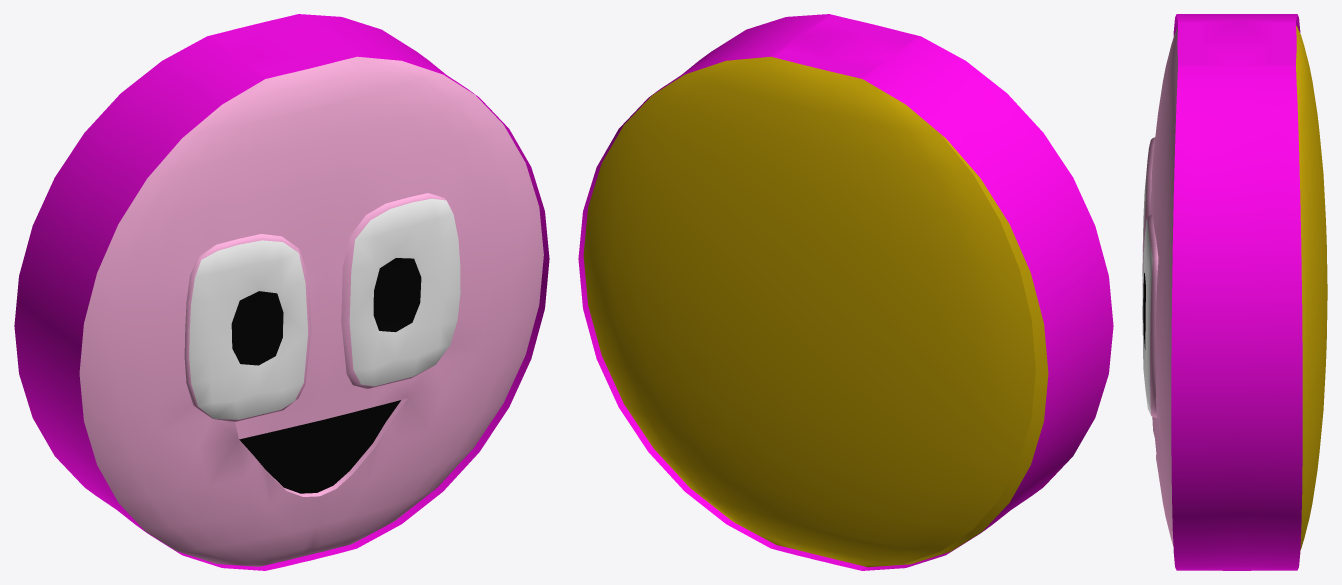
The model's file is enemy1.gltf.
3 renders of one model, left to right at view 1: azimuth 30°, elevation 25°; view 2: azimuth 150°, elevation 25°; view 3: azimuth 270°, elevation 25°, orthographic.
Visible parts, largest first — view 1: Pontan; view 2: Pontan; view 3: Pontan.
Part boxes in pixels (x1,y1,x2,y2): Pontan: (14,14,549,570); Pontan: (578,14,1113,570); Pontan: (1142,14,1327,570).
Bounding box in the file's own units: 2.24 × 2.24 × 0.7572.
